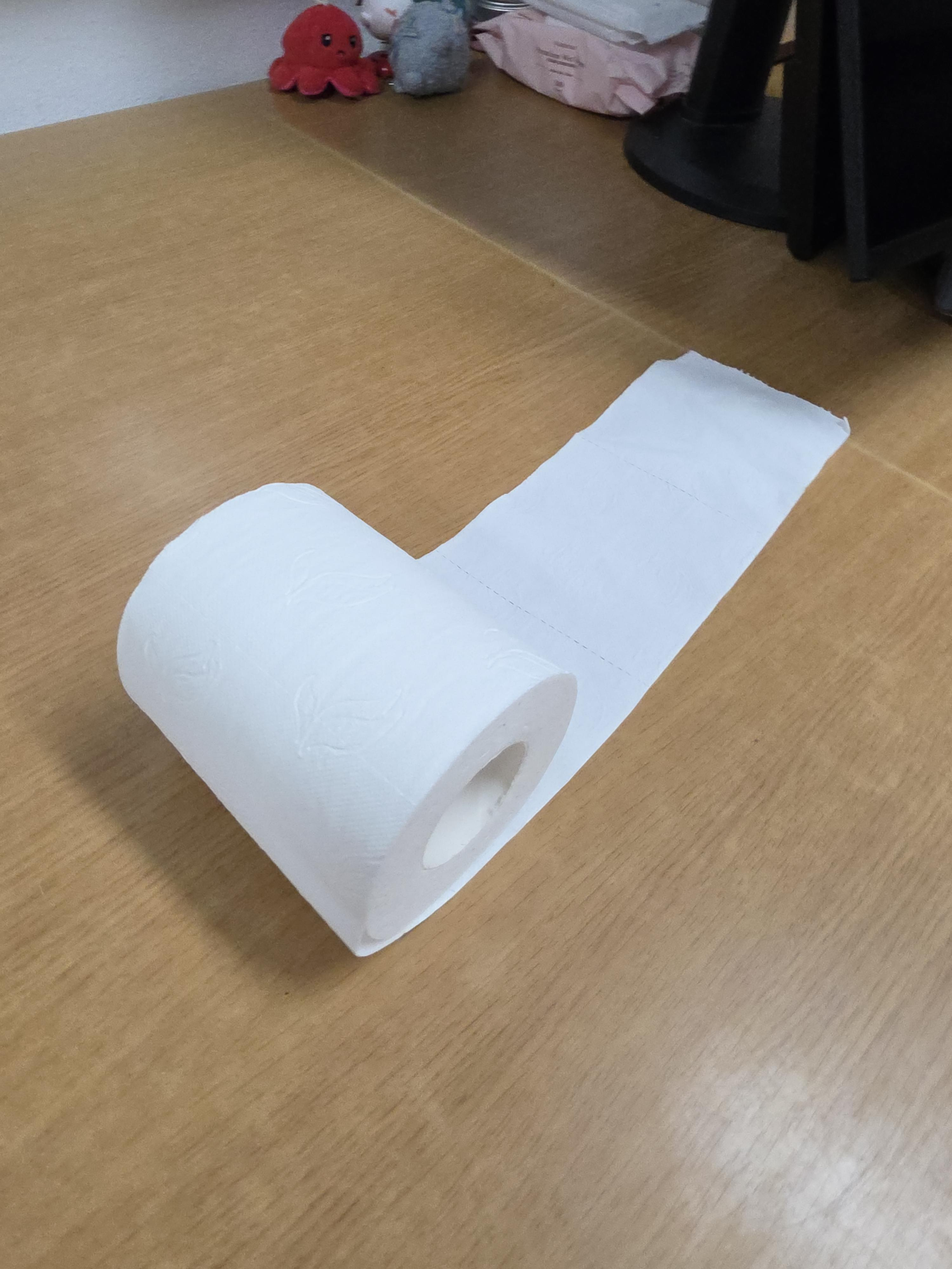tissue: (115, 351, 853, 958)
